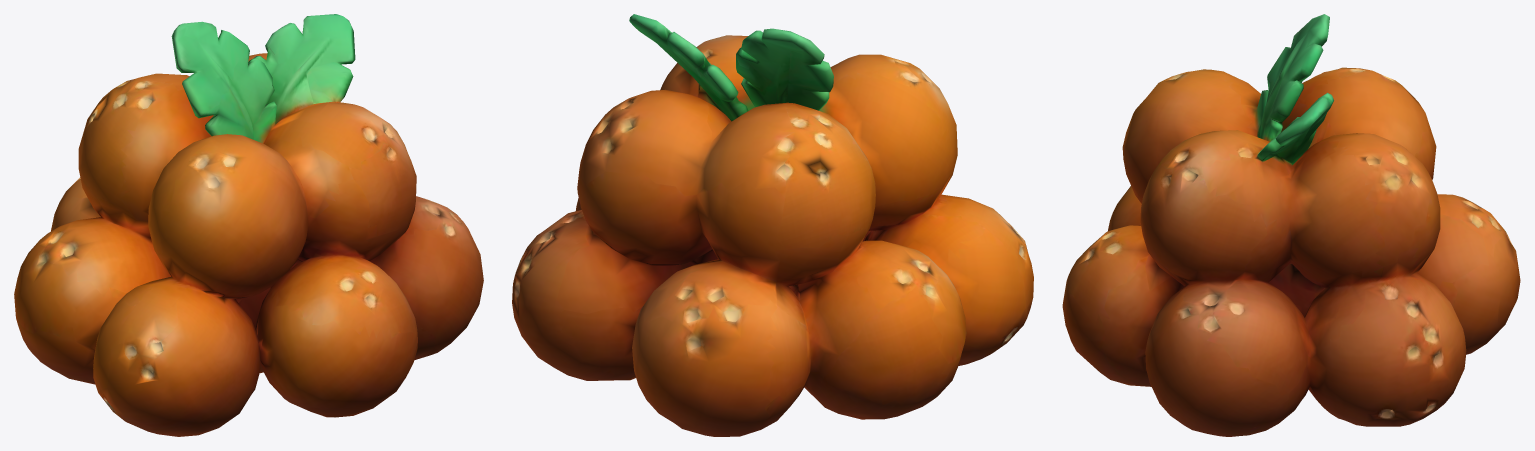
File: coconut-pile.glb
3 renders of one model, left to right at view 1: azimuth 30°, elevation 25°; view 2: azimuth 150°, elevation 25°; view 3: azimuth 270°, elevation 25°, orthographic. The views are drawn at different scales.
Parts seen in each view (by area): view 1: tripo_node_330b98ed-6019-4c1b-a6cb-b959b49195f5; view 2: tripo_node_330b98ed-6019-4c1b-a6cb-b959b49195f5; view 3: tripo_node_330b98ed-6019-4c1b-a6cb-b959b49195f5.
Boxes of the visible parts, x1=… form: tripo_node_330b98ed-6019-4c1b-a6cb-b959b49195f5: x1=14, y1=14, x2=483, y2=436; tripo_node_330b98ed-6019-4c1b-a6cb-b959b49195f5: x1=512, y1=14, x2=1033, y2=436; tripo_node_330b98ed-6019-4c1b-a6cb-b959b49195f5: x1=1062, y1=14, x2=1520, y2=436.
Bounding box in the file's own units: 0.998 × 0.7875 × 0.9992.
1 material, 1 textured.
